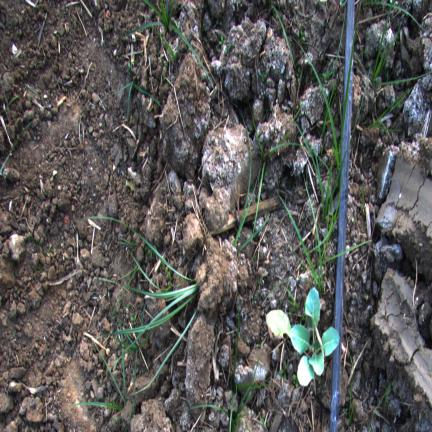crop: (266, 288, 340, 386)
